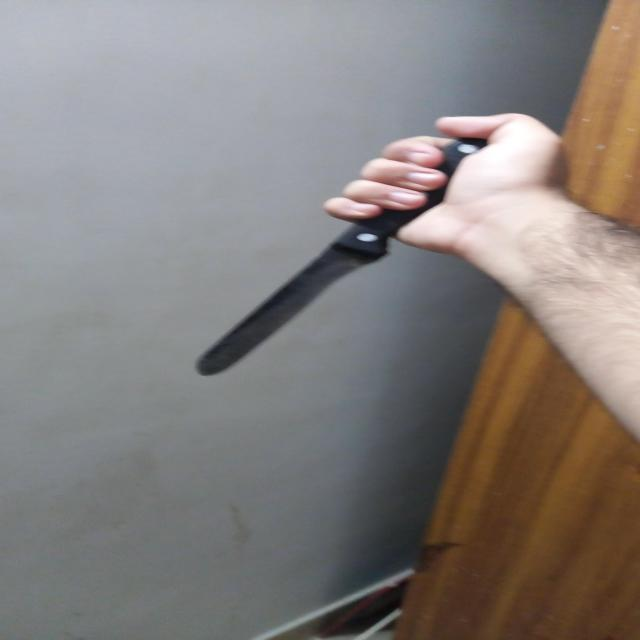Knife: (196, 138, 490, 376)
Person: (323, 112, 640, 440)
